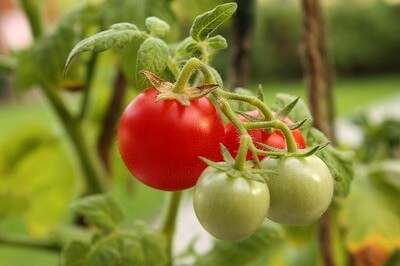stems: (222, 90, 276, 134), (243, 121, 299, 156), (172, 58, 212, 93), (233, 135, 249, 171)
tomato: (120, 83, 226, 192), (193, 161, 269, 242), (256, 152, 333, 226), (225, 109, 307, 162)
